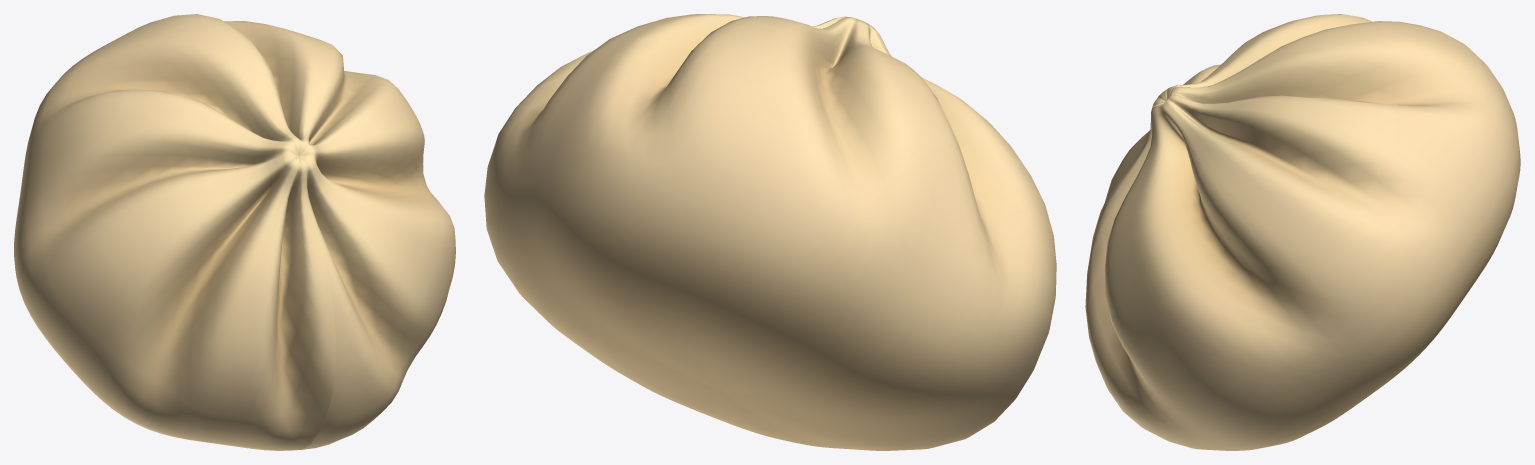
The model's file is steamed-bun.glb.
The picture shows the model from 3 angles, left to right: view 1: azimuth 30°, elevation 25°; view 2: azimuth 150°, elevation 25°; view 3: azimuth 270°, elevation 25°; orthographic projection. The views are drawn at different scales.
Visible parts, largest first — view 1: Hand-pinched steamed bun; view 2: Hand-pinched steamed bun; view 3: Hand-pinched steamed bun.
Part boxes in pixels (<box>): Hand-pinched steamed bun: <box>14,14,455,450</box>; Hand-pinched steamed bun: <box>484,14,1056,450</box>; Hand-pinched steamed bun: <box>1085,14,1520,450</box>.
Bounding box in the file's own units: 0.9306 × 0.8134 × 0.8142.
Materials: 1 (1 with a texture image).
